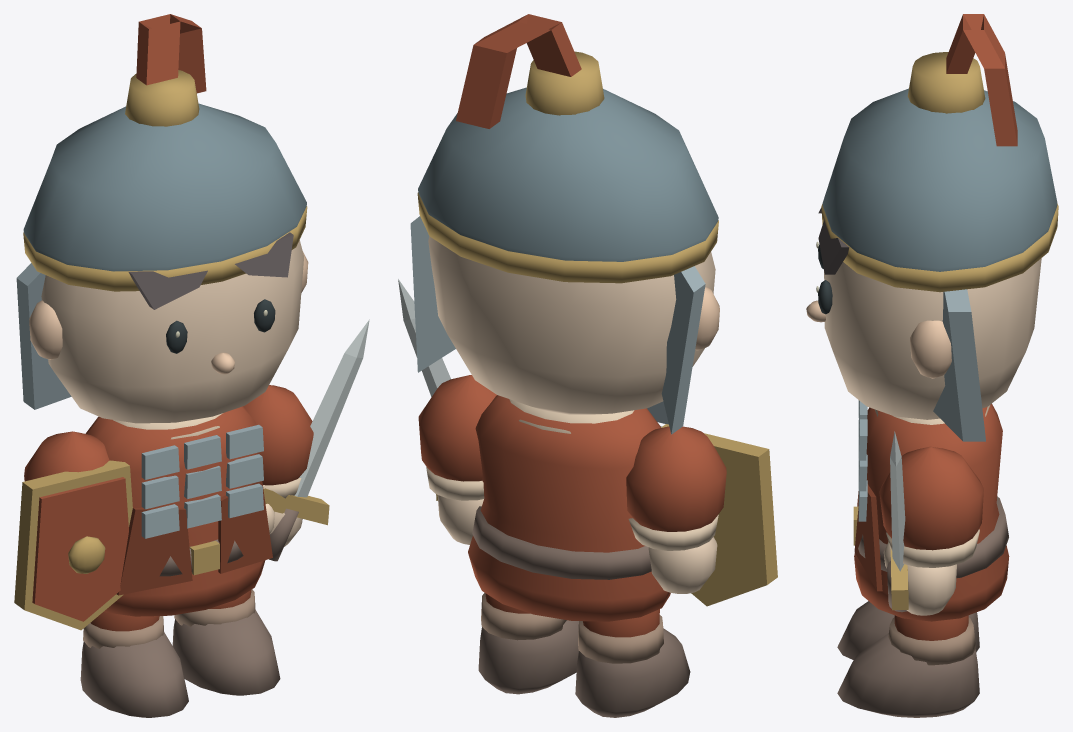
The model's file is warrior.glb.
3 views of the same model, side by side, from view 1: azimuth 30°, elevation 25°; view 2: azimuth 150°, elevation 25°; view 3: azimuth 270°, elevation 25° (orthographic). The views are drawn at different scales.
Visible parts, largest first — view 1: Regional helmet, Soft cheek head, Short folded tunic, Regional shield face, Round leather boot, Round leather boot.001, Shield gold rim, Puff sleeve.001, Red silk tassel, Coat fold, Helmet brow band, Han side guard (+24 smaller); view 2: Regional helmet, Soft cheek head, Short folded tunic, Shield gold rim, Puff sleeve, Red silk tassel, Helmet brow band, Round leather boot, Puff sleeve.001, Round leather boot.001, Broad leather belt, Han side guard (+12 smaller); view 3: Regional helmet, Soft cheek head, Short folded tunic, Round leather boot.001, Puff sleeve.001, Han side guard.001, Helmet brow band, Red silk tassel, Top knot socket, Little mitten.001, Boot turn cuff.001, Round leather boot (+9 smaller).
Part boxes in pixels (left/top/right/bottom): Regional helmet: left=23, top=103, right=306, bottom=271; Soft cheek head: left=41, top=240, right=303, bottom=423; Short folded tunic: left=85, top=406, right=265, bottom=616; Regional shield face: left=32, top=477, right=128, bottom=621; Round leather boot: left=80, top=632, right=188, bottom=717; Round leather boot.001: left=172, top=609, right=280, bottom=695; Shield gold rim: left=14, top=460, right=132, bottom=630; Puff sleeve.001: left=243, top=385, right=313, bottom=485; Red silk tassel: left=136, top=14, right=206, bottom=93; Coat fold: left=116, top=507, right=192, bottom=595; Helmet brow band: left=23, top=206, right=307, bottom=291; Han side guard: left=16, top=263, right=71, bottom=409; Regional helmet: left=418, top=87, right=718, bottom=261; Soft cheek head: left=428, top=236, right=715, bottom=414; Short folded tunic: left=468, top=395, right=670, bottom=621; Shield gold rim: left=661, top=424, right=777, bottom=606; Puff sleeve: left=626, top=426, right=726, bottom=531; Red silk tassel: left=456, top=14, right=581, bottom=128; Helmet brow band: left=417, top=192, right=718, bottom=283; Round leather boot: left=575, top=628, right=690, bottom=717; Puff sleeve.001: left=418, top=375, right=496, bottom=481; Round leather boot.001: left=478, top=620, right=578, bottom=694; Broad leather belt: left=472, top=506, right=651, bottom=579; Han side guard: left=661, top=266, right=705, bottom=434; Regional helmet: left=822, top=88, right=1057, bottom=271; Soft cheek head: left=824, top=258, right=1041, bottom=419; Short folded tunic: left=854, top=404, right=1009, bottom=621; Round leather boot.001: left=837, top=633, right=979, bottom=717; Puff sleeve.001: left=879, top=446, right=983, bottom=550; Han side guard.001: left=933, top=289, right=985, bottom=441; Helmet brow band: left=821, top=203, right=1058, bottom=292; Red silk tassel: left=946, top=14, right=1017, bottom=146; Top knot socket: left=907, top=52, right=985, bottom=113; Little mitten.001: left=906, top=564, right=956, bottom=615; Boot turn cuff.001: left=888, top=617, right=975, bottom=665; Round leather boot: left=837, top=601, right=979, bottom=659.
Size of the model in its own units: 1 by 1.75 by 0.602.
